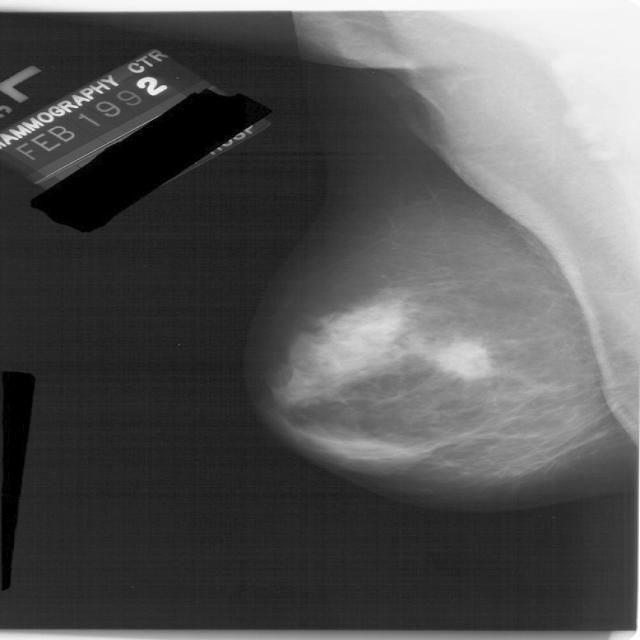tumour: (424, 339, 491, 382)
